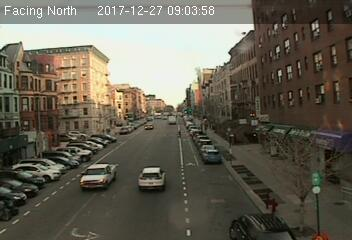car: (231, 214, 295, 240), (78, 162, 116, 188), (137, 167, 165, 189), (202, 150, 222, 163)
